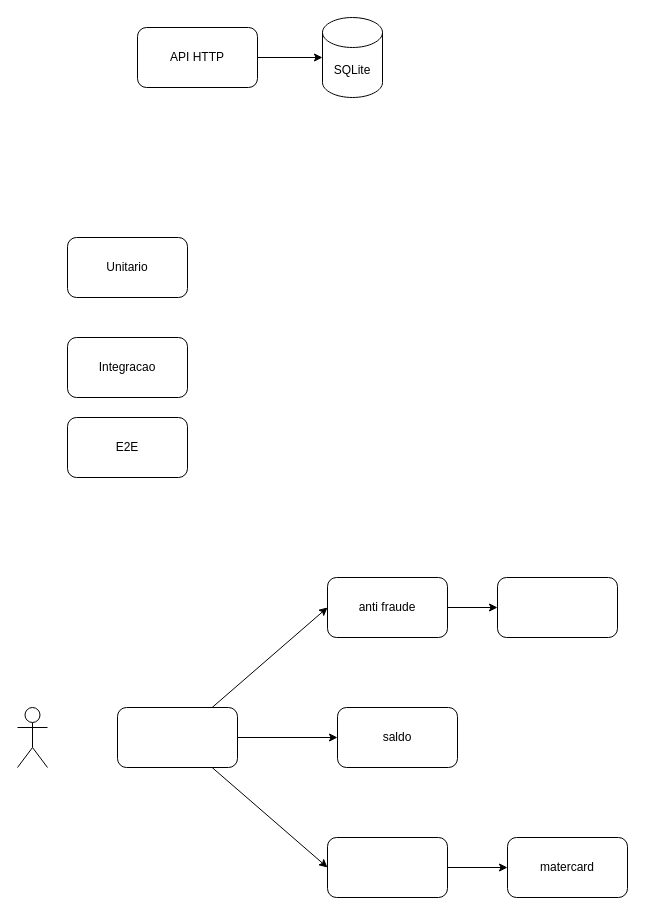
The diagram is 645 pixels wide and 915 high, and some of its shapes have lost their labels. The centre of each missing label's shape, as x and y in pixels:
Actor: point (32, 737)
base24: point (387, 867)
cartao: point (557, 607)
HTTP API: point (177, 737)
